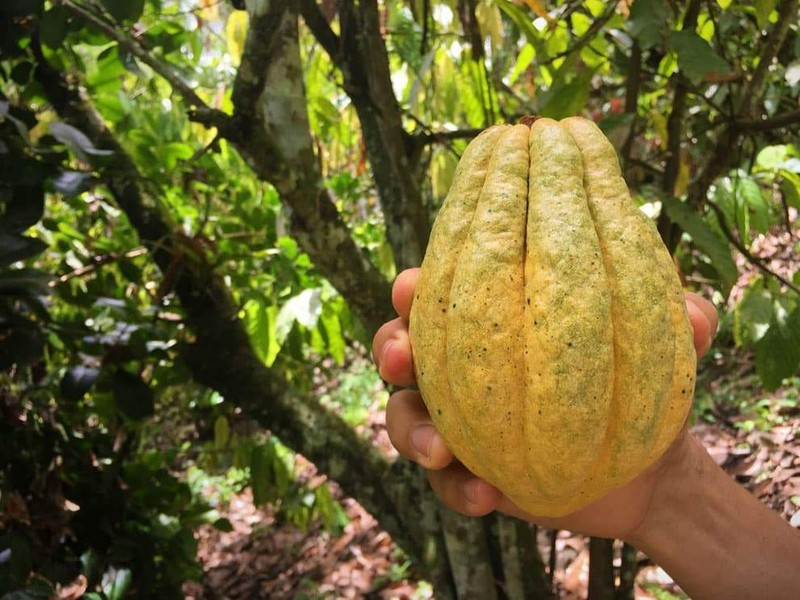Cacaopod: (406, 111, 698, 521)
